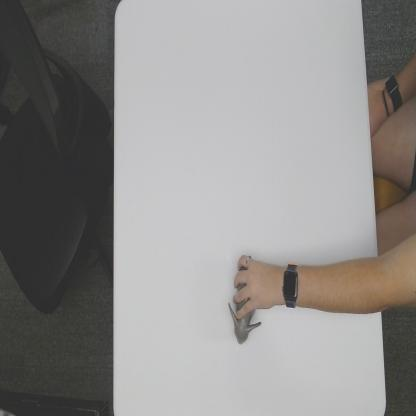Arm: (299, 257, 380, 316)
Elephant: (228, 262, 262, 346)
Hand: (233, 252, 282, 321)
